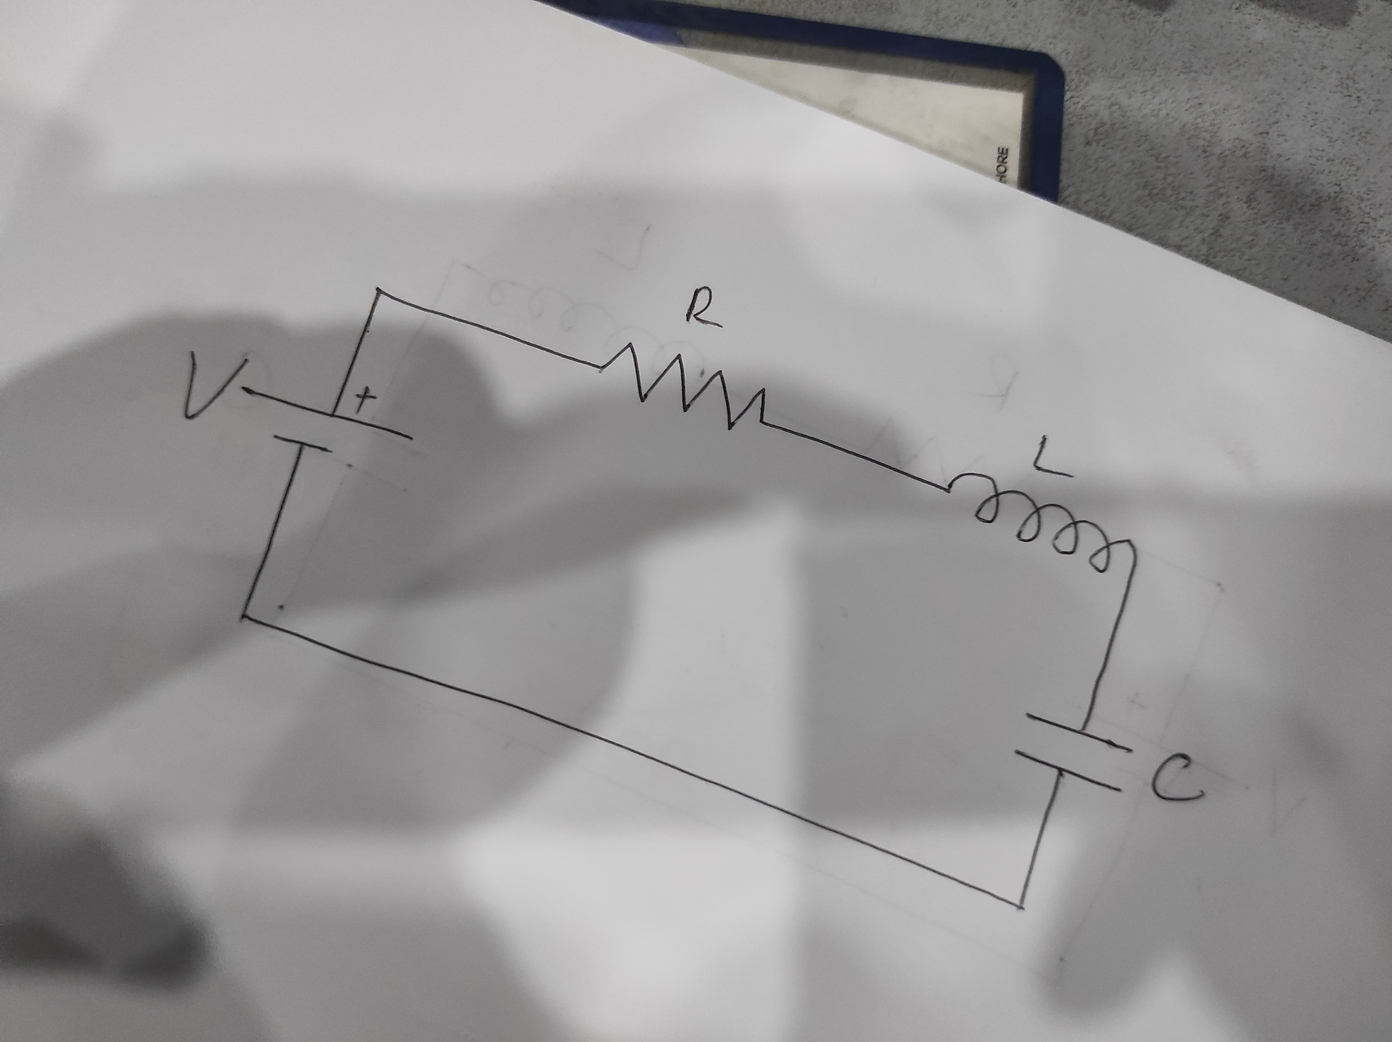capacitor.unpolarized: (1007, 709, 1137, 796)
inductor: (943, 468, 1140, 576)
junction: (364, 278, 392, 308), (1008, 891, 1033, 919), (234, 606, 254, 627)
resistor: (590, 337, 772, 436)
text: (178, 348, 253, 424), (1149, 749, 1211, 804), (1028, 431, 1080, 484), (678, 281, 731, 332)
voltage.dc: (237, 382, 418, 458)
